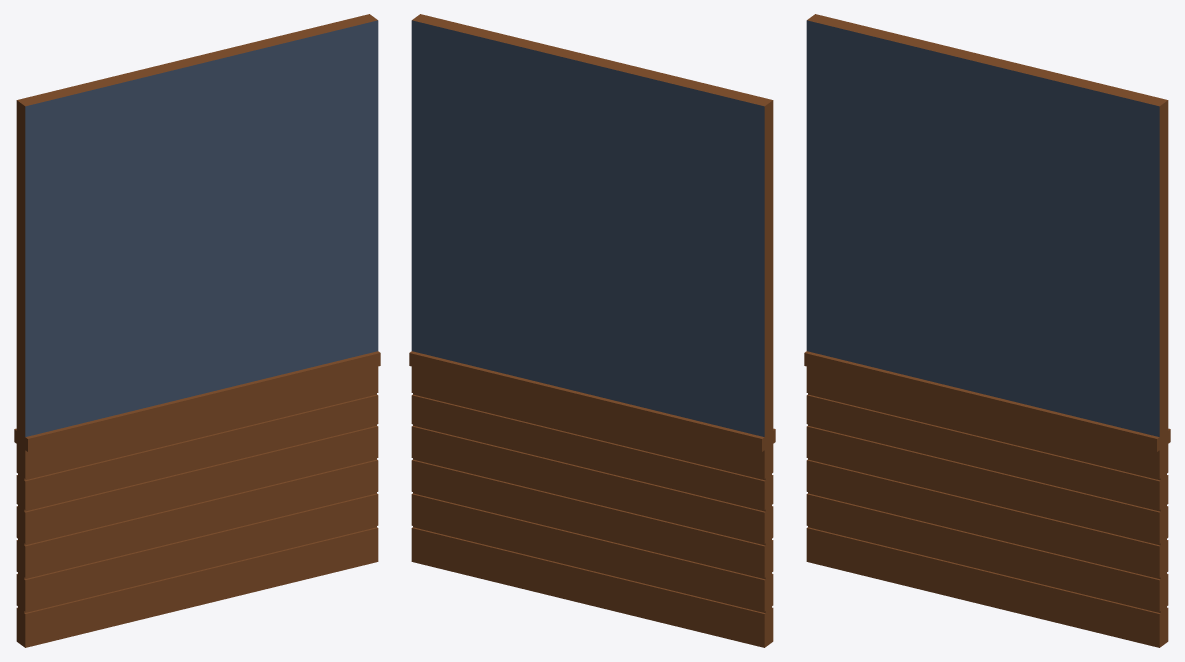
Rendered from ww_interior_small_wall.glb.
3 renders of one model, left to right at view 1: azimuth 30°, elevation 25°; view 2: azimuth 150°, elevation 25°; view 3: azimuth 330°, elevation 25°, orthographic.
Visible parts, largest first — view 1: Int_Small_Wall; view 2: Int_Small_Wall; view 3: Int_Small_Wall.
Boxes of the visible parts, x1,y1,x2,y2 form: Int_Small_Wall: (14,14,380,647); Int_Small_Wall: (409,14,775,647); Int_Small_Wall: (804,14,1170,647).
Bounding box in the file's own units: 2.4 × 3.52 × 0.1598.
